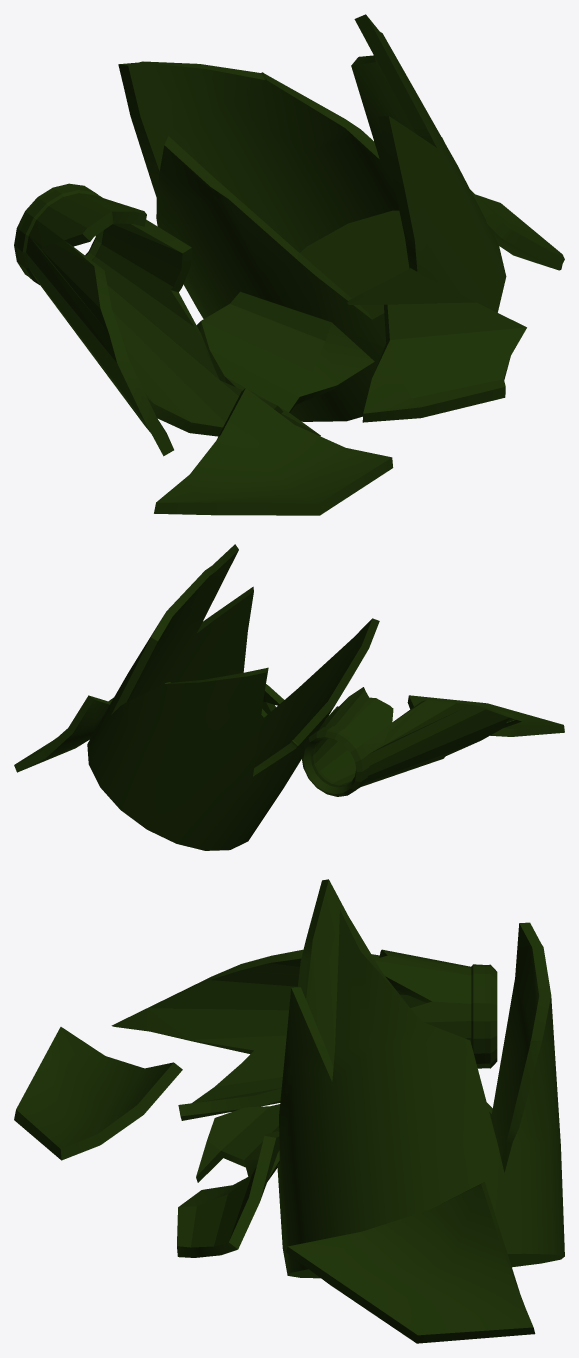
Rendered from Broken Glass.fbx.
3 renders of one model, top to bottom at view 1: azimuth 30°, elevation 25°; view 2: azimuth 150°, elevation 25°; view 3: azimuth 270°, elevation 25°, orthographic. The views are drawn at different scales.
Parts seen in each view (by area): view 1: Cylinder002, Cylinder003, Cylinder001, Cylinder004; view 2: Cylinder002, Cylinder001, Cylinder004, Cylinder003; view 3: Cylinder002, Cylinder004, Cylinder001, Cylinder003.
Part boxes in pixels (x1,y1,x2,y2): Cylinder002: [118, 14, 506, 421]; Cylinder003: [154, 268, 526, 515]; Cylinder001: [14, 183, 283, 456]; Cylinder004: [196, 137, 564, 436]; Cylinder002: [87, 544, 379, 850]; Cylinder001: [301, 687, 521, 796]; Cylinder004: [14, 695, 113, 772]; Cylinder003: [262, 684, 564, 736]; Cylinder002: [277, 879, 564, 1278]; Cylinder004: [196, 1104, 535, 1343]; Cylinder001: [111, 949, 497, 1120]; Cylinder003: [14, 1027, 279, 1257].
Bounding box in the file's own units: 54.74 × 36.06 × 45.76.
